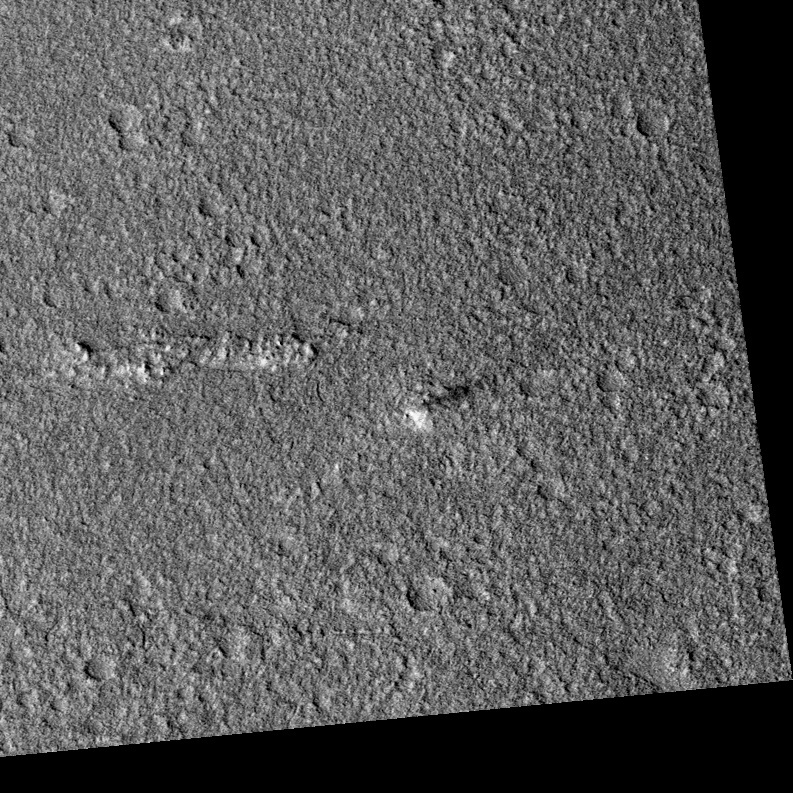dust_devil: (404, 378, 479, 438)
